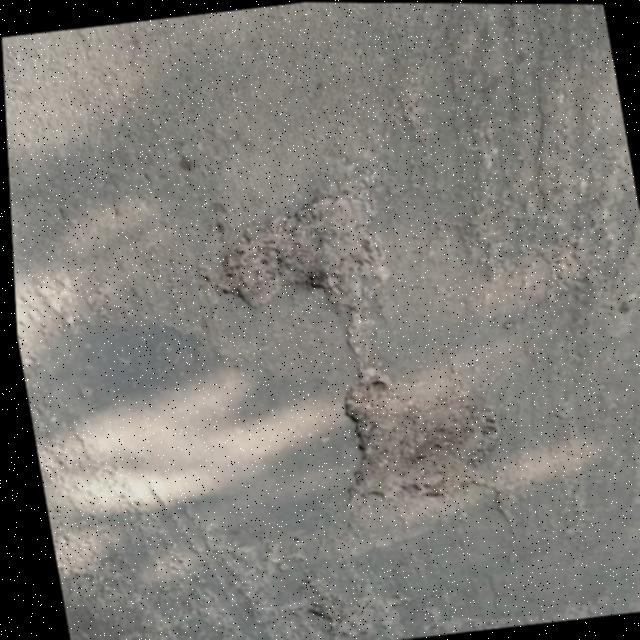Pothole: (327, 359, 512, 515), (209, 172, 393, 326)
